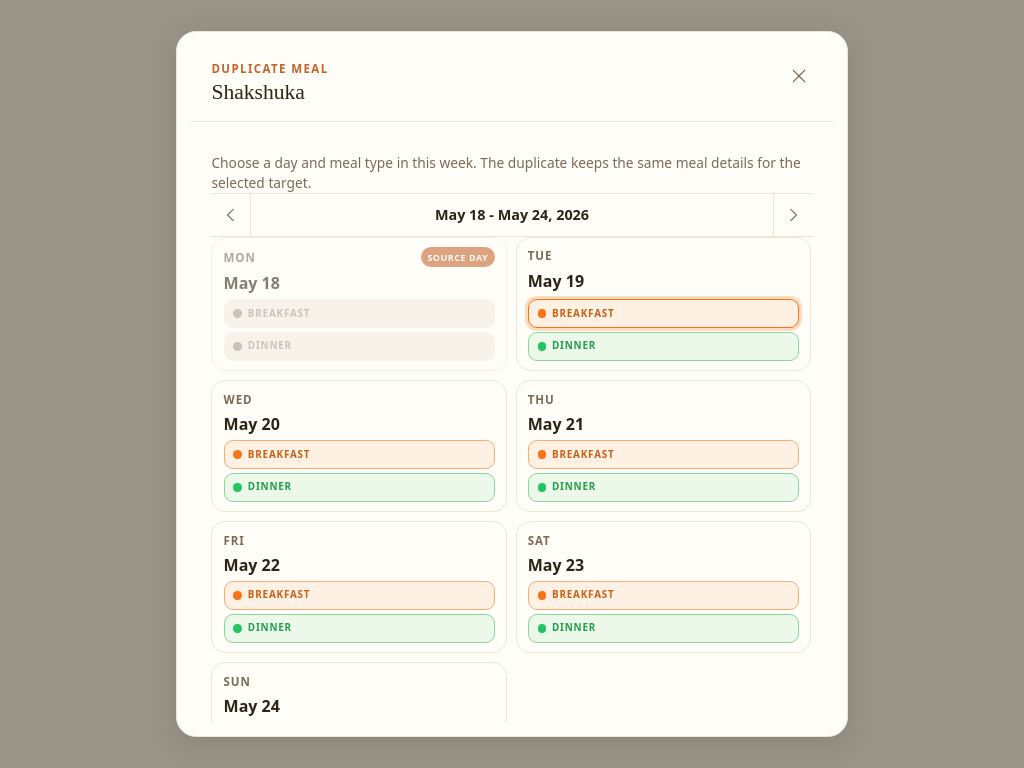
Test: DuplicateMealModal › updates the source-day indication when the displayed week changes
expect the text "Source day" is shown: met, box [421,247,495,267]
Click the button named "Previous week" at (231, 215), box [211,194,251,236]
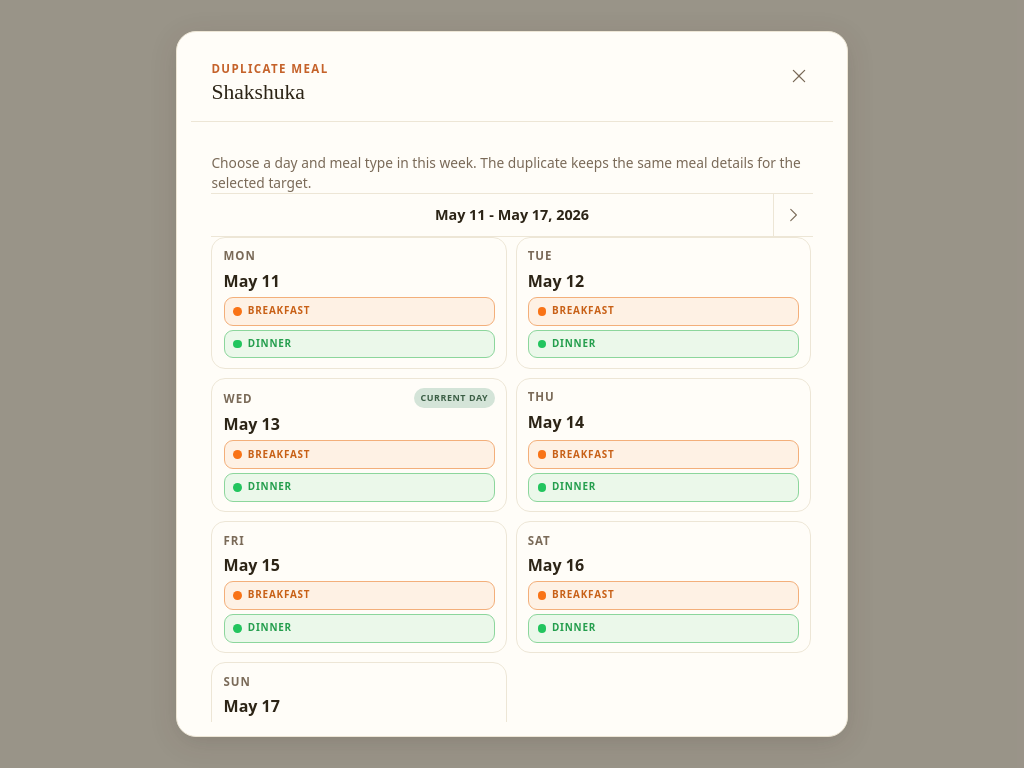
expect the text "Source day" is gone: met
Click the button named "Next week" at (793, 215), box [773,194,813,236]
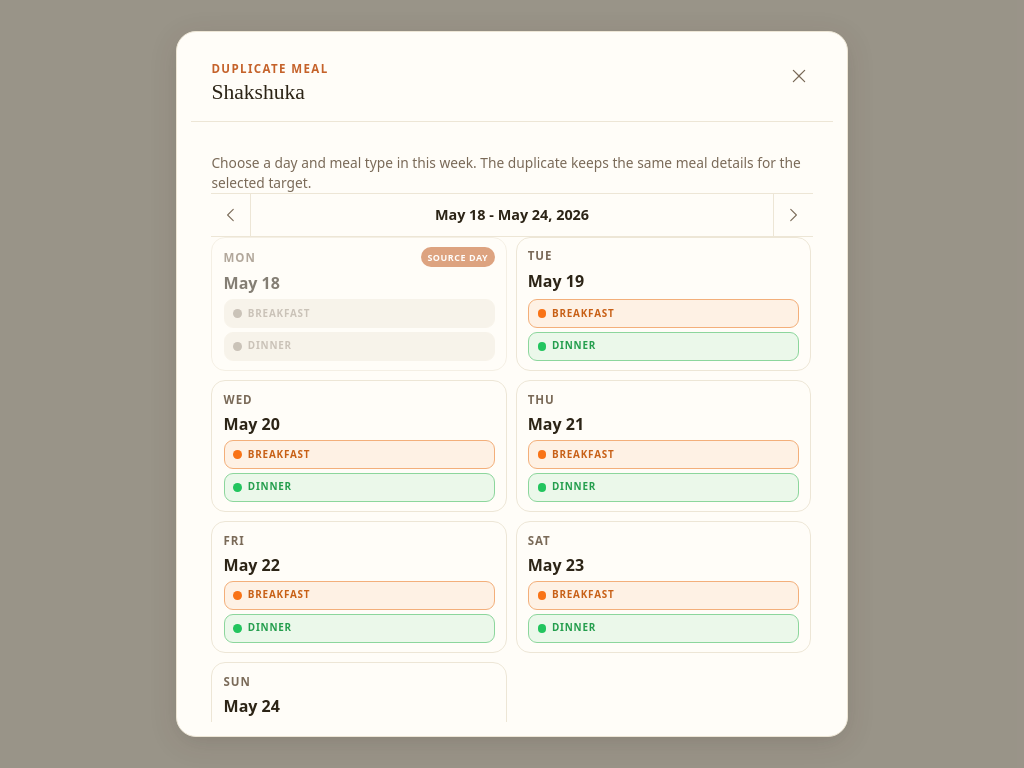
expect the text "Source day" is shown: met, box [421,247,495,267]
